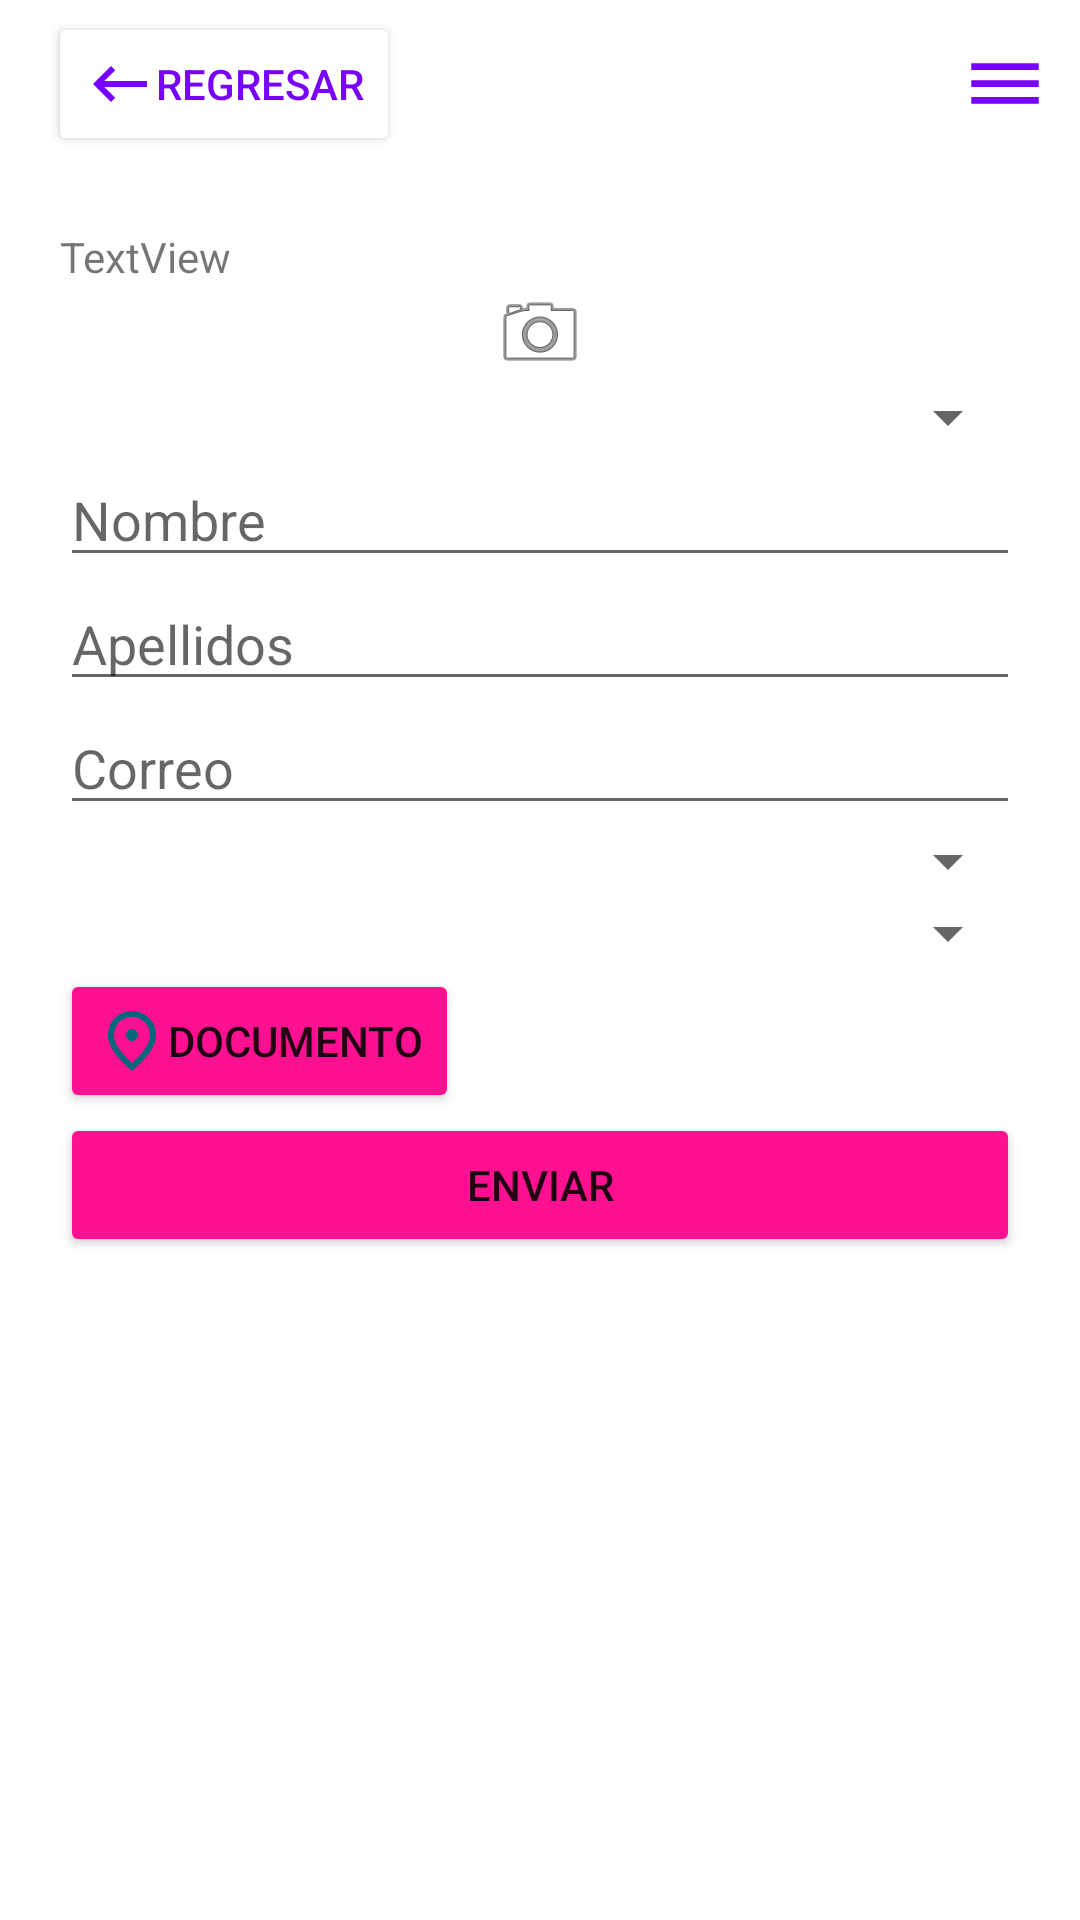

Point at icon controls on the screen. Image size 1080w x 1920h, points as (x=x, y=y).
camera: (x=540, y=331)
menu: (x=1005, y=83)
